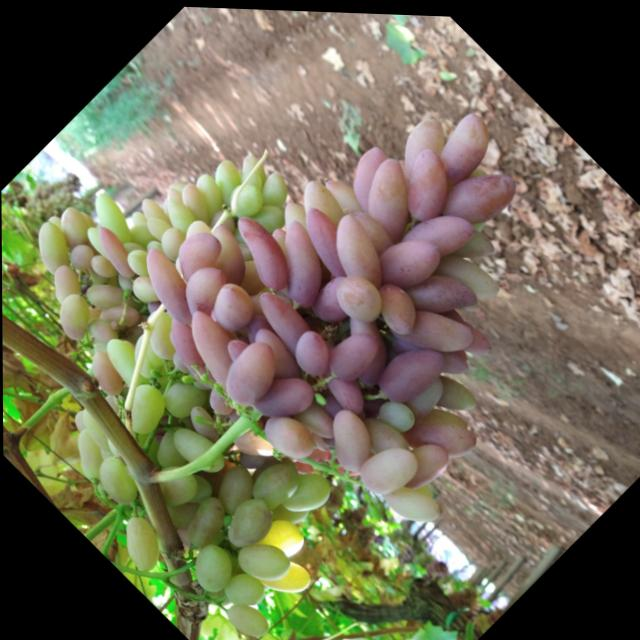grapes: (345, 149, 440, 245), (253, 215, 346, 311), (386, 283, 478, 375), (433, 149, 523, 241), (314, 208, 404, 299), (217, 207, 305, 296), (384, 141, 469, 228), (322, 303, 407, 389), (397, 250, 481, 336), (365, 218, 449, 304), (127, 243, 211, 329), (369, 326, 452, 413), (421, 104, 504, 189), (397, 393, 480, 477), (299, 334, 381, 417), (287, 200, 368, 283), (170, 304, 251, 387), (211, 332, 292, 414), (399, 192, 479, 273), (426, 237, 502, 315), (245, 282, 321, 359), (334, 139, 408, 215), (312, 402, 386, 477), (351, 429, 424, 505), (384, 108, 456, 183), (248, 360, 320, 434), (169, 254, 240, 327), (193, 220, 261, 290), (387, 428, 455, 497), (426, 293, 494, 362), (242, 321, 310, 390), (215, 488, 282, 556), (320, 319, 386, 387), (164, 220, 229, 288), (326, 263, 391, 330), (229, 526, 294, 593), (108, 509, 173, 576), (256, 402, 321, 468), (244, 449, 308, 516), (364, 273, 428, 338), (112, 375, 175, 440), (380, 469, 443, 533), (290, 173, 353, 237), (166, 417, 229, 481), (95, 332, 158, 396), (200, 274, 262, 338), (174, 489, 236, 553), (83, 189, 145, 252), (408, 388, 470, 450), (350, 404, 411, 467), (132, 303, 193, 365), (276, 461, 336, 524), (154, 311, 215, 372), (249, 509, 310, 570), (305, 268, 365, 330), (183, 537, 243, 598), (156, 366, 215, 427), (60, 427, 119, 486), (255, 547, 313, 607), (145, 456, 203, 516), (205, 459, 263, 519), (22, 218, 80, 278), (89, 451, 147, 510), (421, 365, 479, 423), (86, 223, 144, 281), (284, 323, 340, 381), (342, 200, 398, 258), (179, 168, 235, 226), (47, 288, 103, 345), (235, 306, 290, 362), (146, 420, 201, 476), (82, 269, 137, 325), (200, 154, 254, 209), (289, 393, 343, 447), (79, 346, 133, 400), (121, 328, 174, 383), (445, 221, 498, 275), (400, 366, 452, 421), (218, 563, 270, 616), (47, 203, 98, 255), (171, 179, 221, 229), (222, 592, 273, 640), (220, 175, 269, 224), (41, 260, 89, 310), (97, 415, 145, 463), (72, 408, 119, 456), (250, 167, 297, 215), (231, 422, 278, 469), (373, 389, 419, 437), (272, 195, 317, 242), (97, 292, 142, 339), (265, 489, 310, 535), (229, 150, 275, 195), (428, 337, 472, 382), (228, 253, 272, 298), (182, 401, 226, 446), (156, 193, 200, 237), (249, 195, 292, 239), (134, 194, 177, 238), (153, 221, 194, 264), (179, 349, 220, 390), (234, 434, 275, 475), (321, 443, 361, 483), (126, 269, 165, 309), (120, 242, 159, 282), (80, 222, 119, 261), (204, 203, 242, 242), (83, 311, 121, 349), (201, 382, 237, 419), (64, 238, 99, 274), (180, 215, 214, 250), (124, 218, 158, 253), (172, 522, 205, 556), (86, 249, 119, 283), (143, 236, 176, 269), (266, 223, 298, 256), (388, 154, 420, 187), (142, 211, 174, 244), (452, 289, 482, 320), (238, 164, 268, 195), (221, 331, 250, 361), (305, 439, 332, 467), (304, 426, 331, 453), (167, 349, 194, 376), (289, 452, 315, 479), (168, 255, 194, 282), (100, 391, 125, 417), (68, 408, 93, 433), (319, 392, 343, 417), (113, 269, 137, 294), (44, 211, 67, 235), (128, 206, 150, 229), (318, 429, 339, 449), (77, 209, 98, 229), (90, 339, 109, 359), (340, 200, 358, 218), (469, 212, 487, 230), (225, 406, 242, 423), (455, 344, 470, 358), (122, 337, 136, 350)
